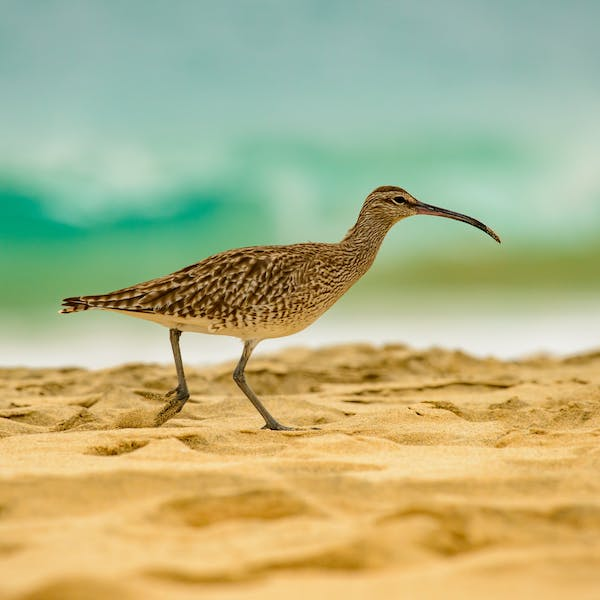Walking: (33, 175, 540, 481)
